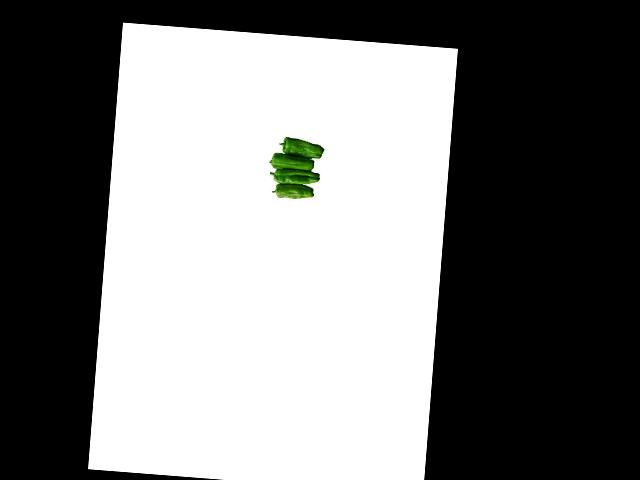bell_pepper: (276, 136, 328, 159)
